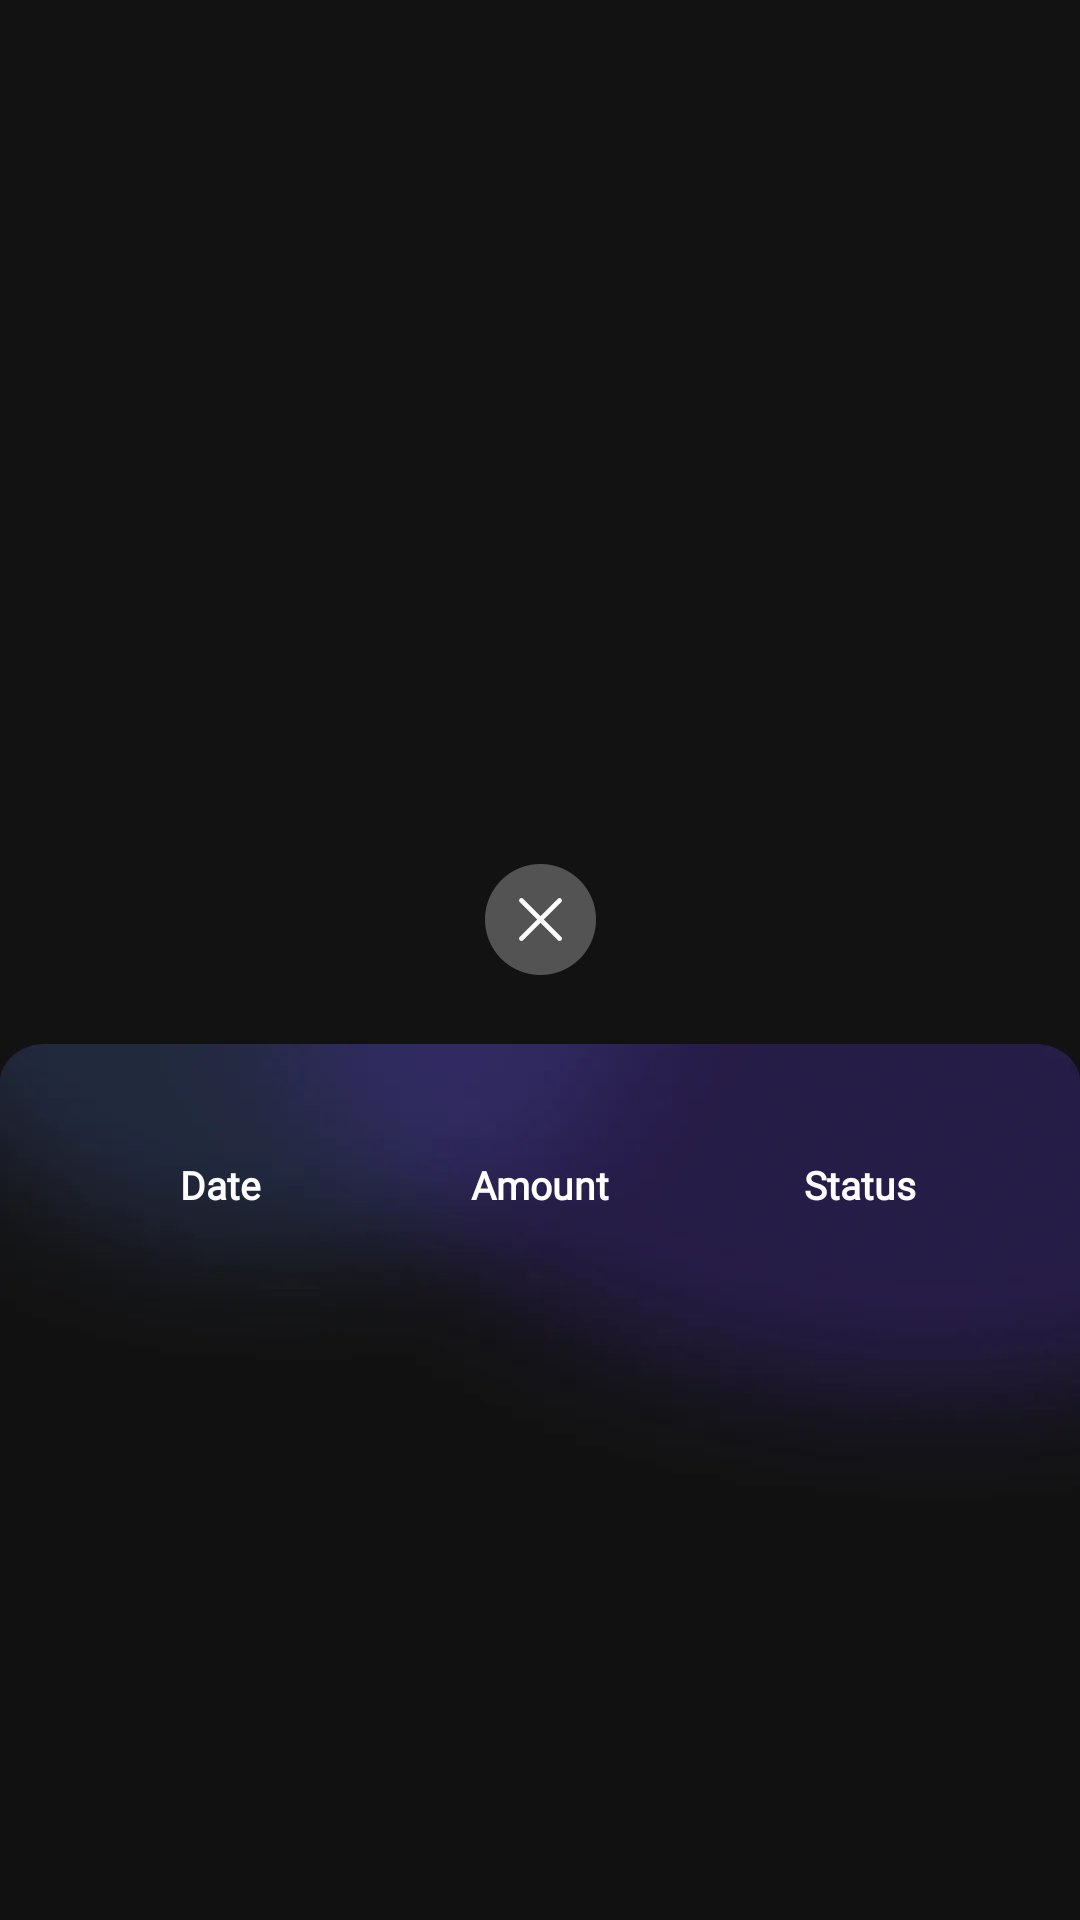

Named icons in this screenshot (1080x1920) and their centers, (x,y):
close: (540,919)
